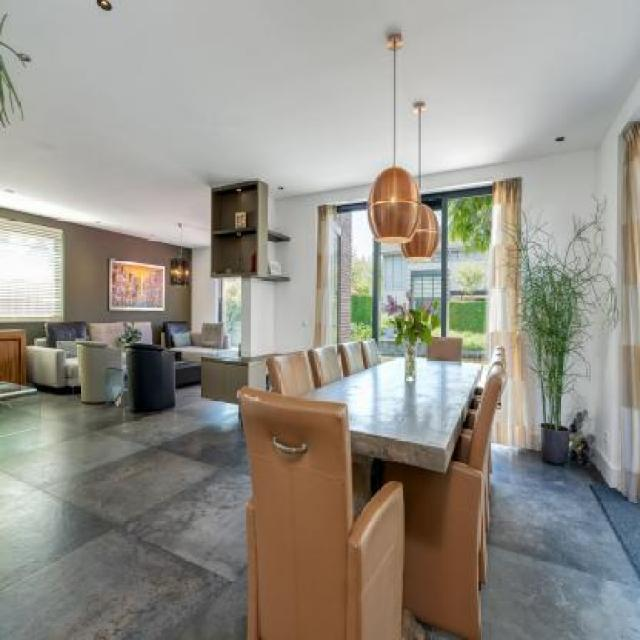floor: (1, 376, 254, 640), (480, 439, 640, 640), (424, 630, 464, 640)
